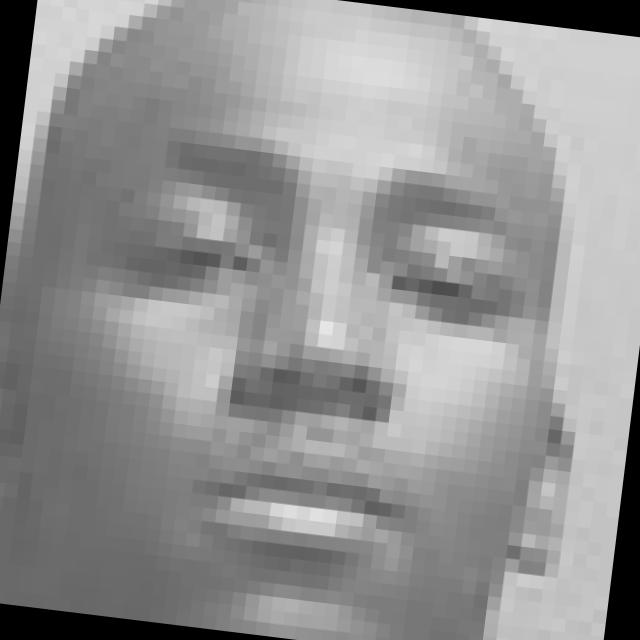neutral: (64, 125, 534, 592)
